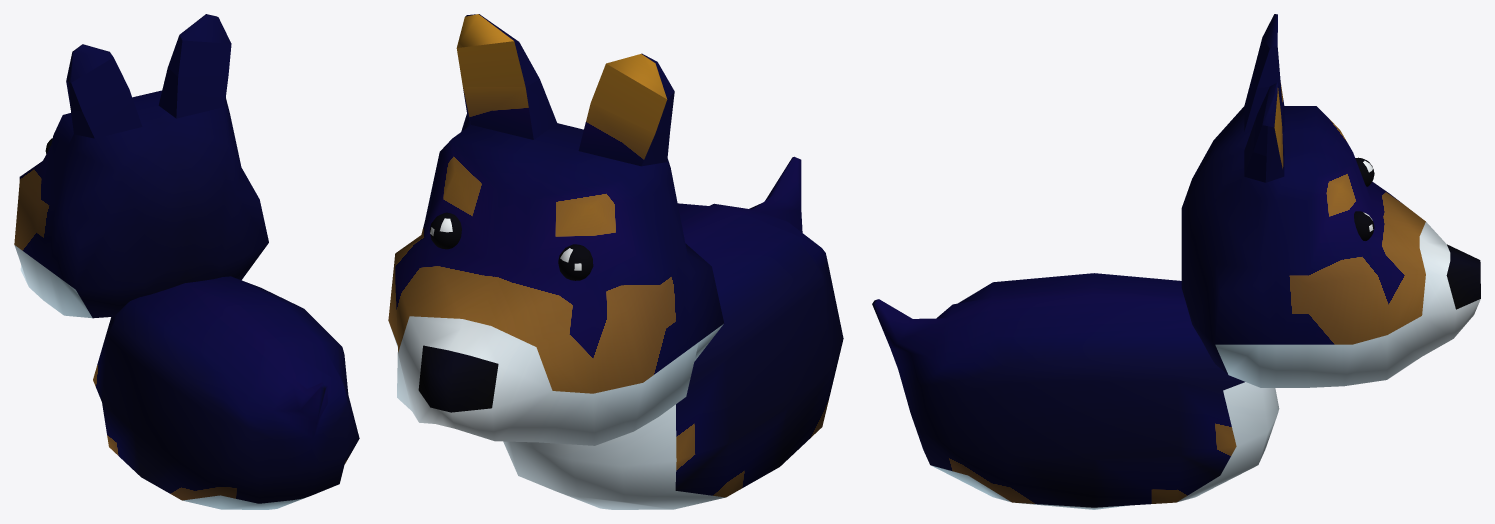
File: corgi.fbx
3 views of the same model, side by side, from view 1: azimuth 30°, elevation 25°; view 2: azimuth 150°, elevation 25°; view 3: azimuth 270°, elevation 25° (orthographic). The views are drawn at different scales.
Visible parts, largest first — view 1: Body; view 2: Body; view 3: Body.
Boxes of the visible parts, left/top/right/bottom form: Body: left=14, top=14, right=359, bottom=509; Body: left=388, top=14, right=843, bottom=509; Body: left=872, top=14, right=1480, bottom=509.
Bounding box in the file's own units: 67.26 × 130 × 163.
1 material, 1 textured.
